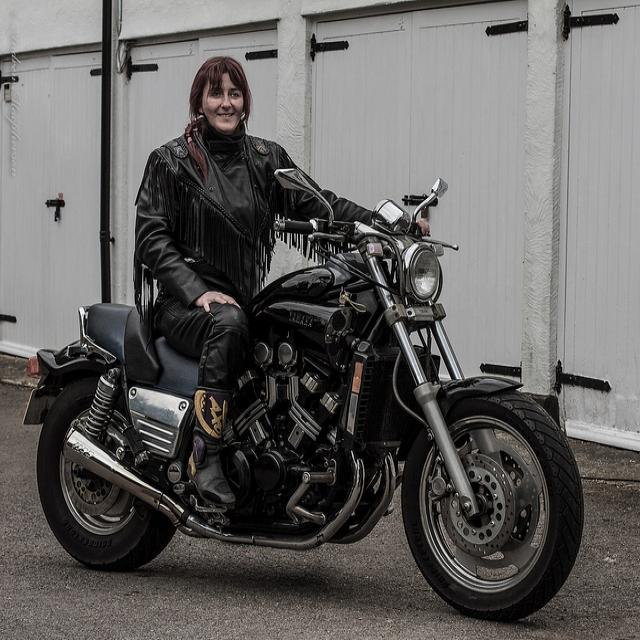motor: (14, 165, 591, 620)
